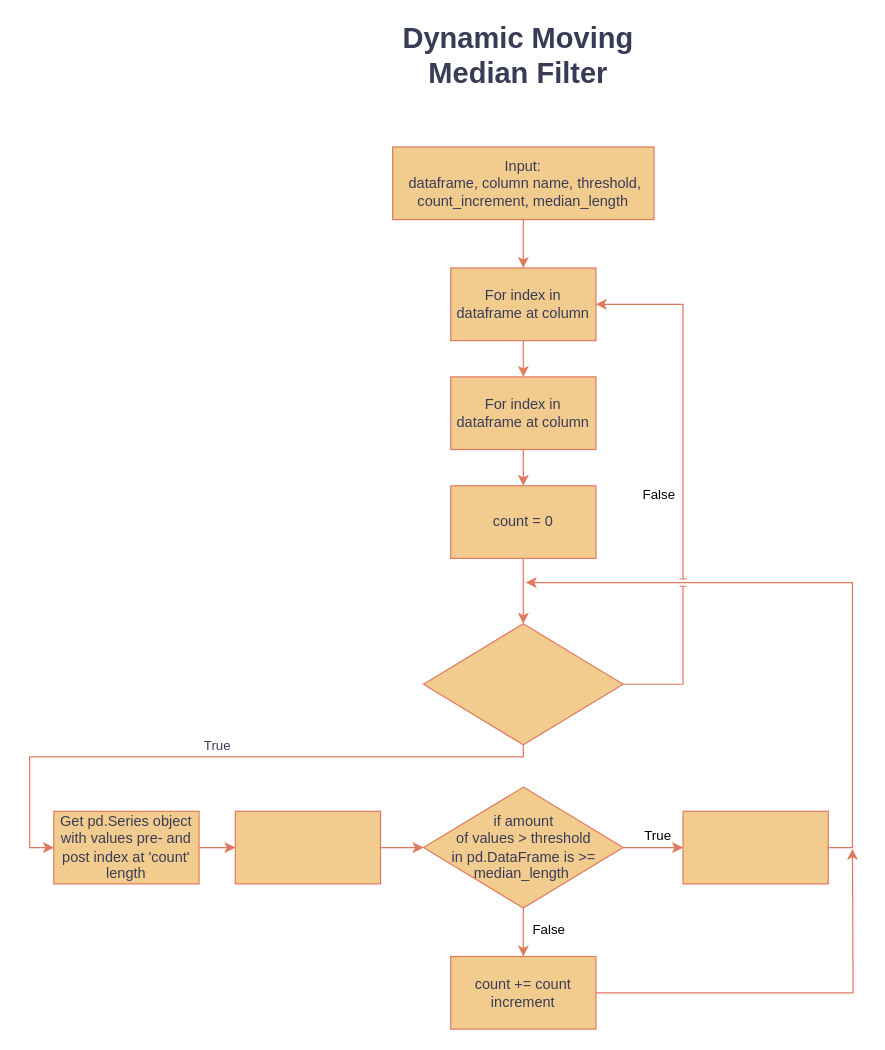
The diagram is 885 pixels wide and 1050 high, and some of its shapes have lost their labels. The centre of each missing label's shape, as x and y in pixels:
"Convert pd.Series object to pd.DataFrame" goes at [307,847].
"Set median as index value" goes at [755,847].
"While index < threshold" goes at [522,684].
